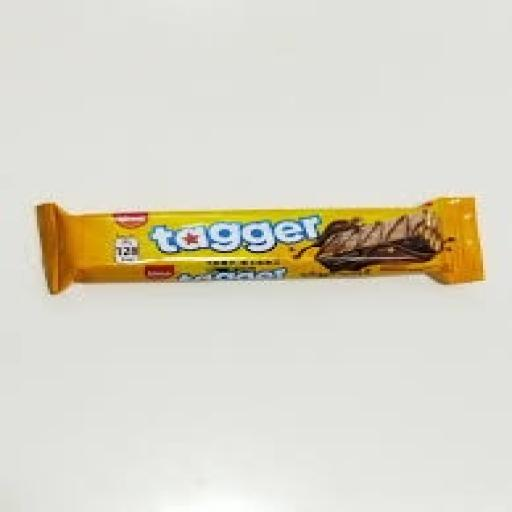tagger: (25, 165, 493, 336)
